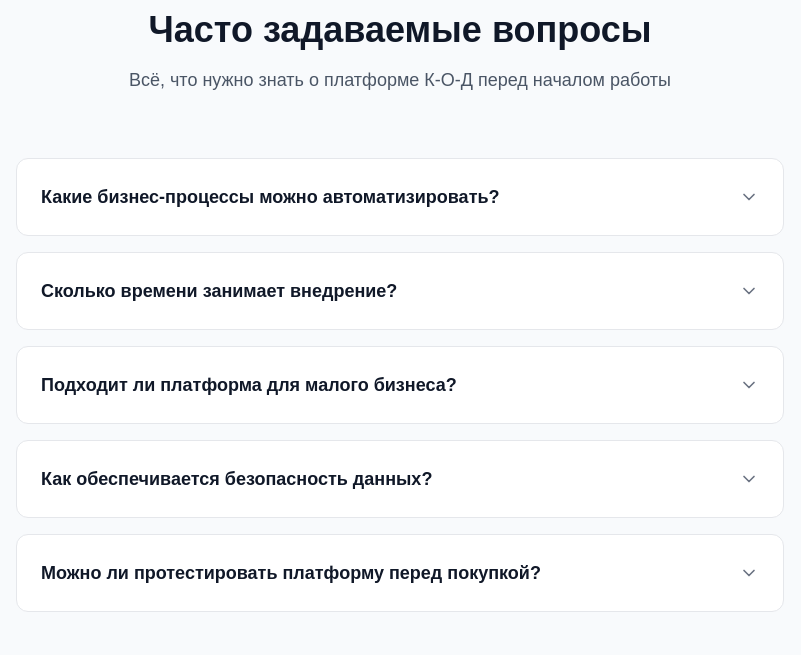
FAQ › toggles answer when clicking the same question again
This screenshot has width=801, height=655.
Click the button "Какие бизнес-процессы можно автоматизировать?" at (400, 197), box [17,159,783,235]
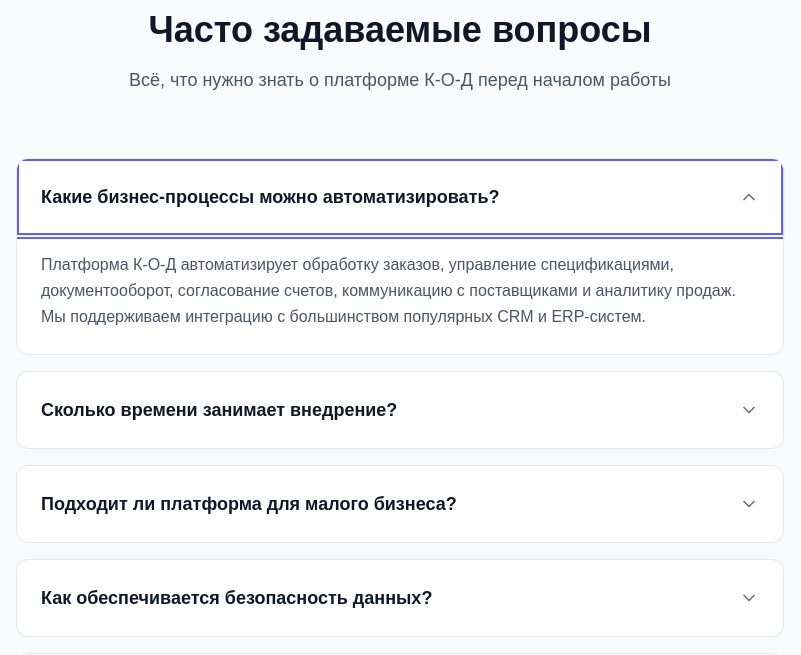
Result: the button "Какие бизнес-процессы можно автоматизировать?" is expanded
Click the button "Какие бизнес-процессы можно автоматизировать?" at (400, 197), box [17,159,783,235]
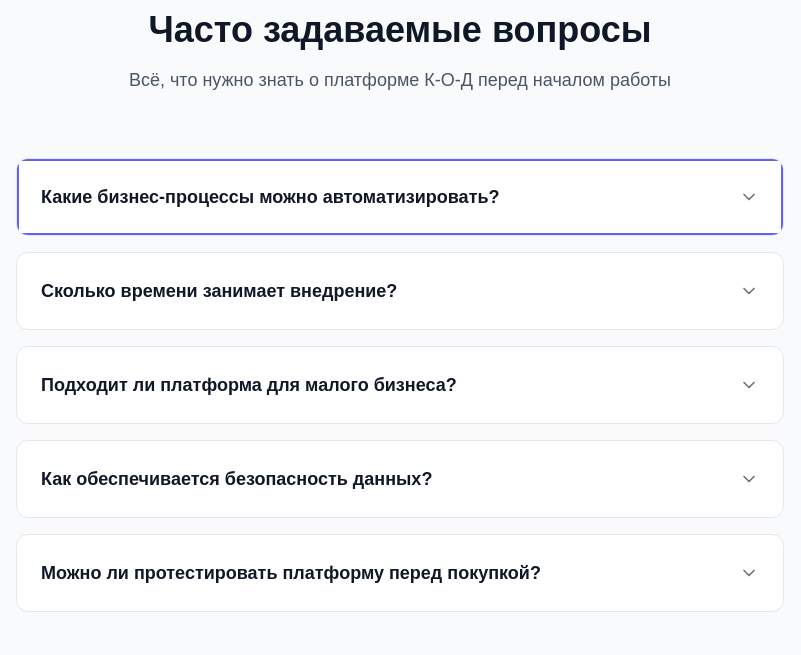
Result: the button "Какие бизнес-процессы можно автоматизировать?" is collapsed at [17,159,783,235]
